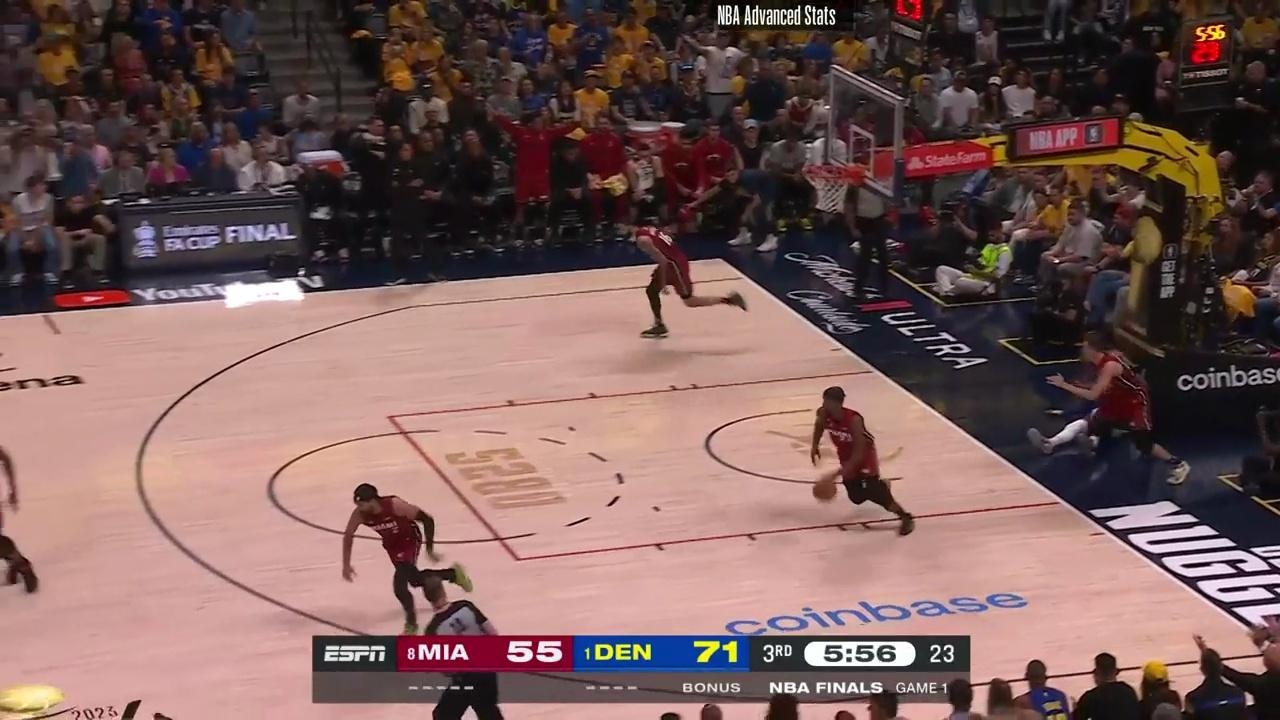Backboard: (824, 68, 910, 203)
Ball: (812, 478, 838, 503)
Basket: (807, 164, 858, 217)
Person: (339, 479, 487, 637), (1052, 329, 1194, 488), (808, 377, 919, 544), (609, 213, 748, 344), (0, 419, 45, 604)
Shot Clock: (1168, 20, 1239, 115), (882, 0, 929, 52)
